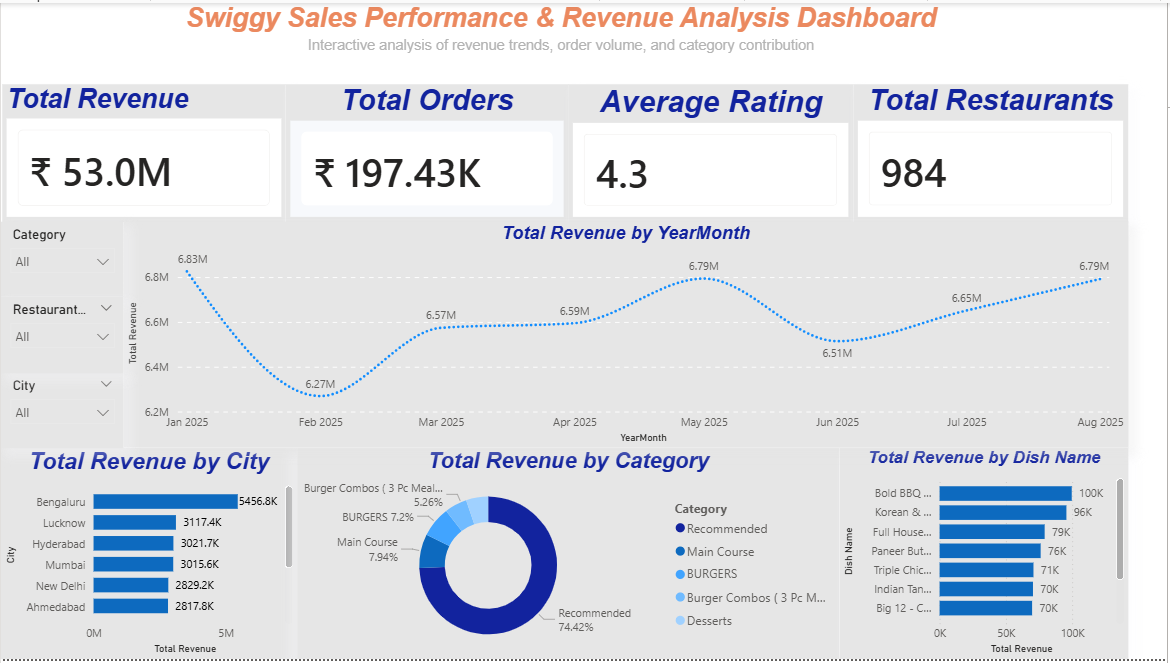

The page's visual inventory and layout, read from the dashboard file:
{"tool":"powerbi","page":{"name":"Page 1","canvas":[1280,720],"ordinal":0},"visuals":[{"type":"cardVisual","title":"Total Revenue","fields":{"Data":["Table1.Total Revenue"]},"box":[1.4,89.2,311.5,150.9],"z":0},{"type":"cardVisual","title":"Total Orders ","fields":{"Data":["Data Table.Total Orders"]},"box":[312.9,89.2,310.1,150.9],"z":1000},{"type":"cardVisual","title":"Average Rating","fields":{"Data":["Data Table.Average Rating"]},"box":[623,89.2,312.9,150.9],"z":2000},{"type":"cardVisual","title":"Total Restaurants","fields":{"Data":["Data Table.Total Restaurents"]},"box":[935.9,89.2,301.9,150.9],"z":3000},{"type":"clusteredBarChart","fields":{"Category":["Table1.City"],"Y":["Table1.Total Revenue"]},"box":[0,488.5,325.2,231.9],"z":4000},{"type":"donutChart","fields":{"Category":["Table1.Category"],"Y":["Table1.Total Revenue"]},"box":[325.2,488.5,595.5,231.9],"z":5000},{"type":"clusteredBarChart","fields":{"Category":["Table1.Dish Name"],"Y":["Table1.Total Revenue"]},"box":[920.8,488.5,317,231.9],"z":6000},{"type":"lineChart","fields":{"Y":["Table1.Total Revenue"],"Category":["Data Table.YearMonth"]},"box":[134.5,240.1,1103.3,248.4],"z":7000},{"type":"slicer","fields":{"Values":["Table1.City"]},"box":[0,406.2,134.5,82.3],"z":8000},{"type":"slicer","fields":{"Values":["Table1.Category"]},"box":[0,240.1,134.5,82.3],"z":9000},{"type":"slicer","fields":{"Values":["Table1.Restaurant Name"]},"box":[0,322.5,134.5,83.7],"z":10000},{"type":"textbox","title":"Swiggy Sales Performance & Revenue Analysis Dashboard","box":[1.4,0,1226.8,86.4],"z":11000}]}

Visuals, with their boxes in screenshot pixels (x1, y1, x2, y2), scaled from the page's 1280x720 canvas onto the 1170x663 screenshot:
"Total Revenue" cardVisual: [1, 82, 286, 221]
"Total Orders " cardVisual: [286, 82, 569, 221]
"Average Rating" cardVisual: [569, 82, 855, 221]
"Total Restaurants" cardVisual: [855, 82, 1131, 221]
clusteredBarChart - Table1.City x Table1.Total Revenue: [0, 450, 297, 662]
donutChart - Table1.Category x Table1.Total Revenue: [297, 450, 842, 662]
clusteredBarChart - Table1.Dish Name x Table1.Total Revenue: [842, 450, 1131, 662]
lineChart - Table1.Total Revenue x Data Table.YearMonth: [123, 221, 1131, 450]
slicer - Table1.City: [0, 374, 123, 450]
slicer - Table1.Category: [0, 221, 123, 297]
slicer - Table1.Restaurant Name: [0, 297, 123, 374]
"Swiggy Sales Performance & Revenue Analysis Dashboard" textbox: [1, 0, 1123, 80]
